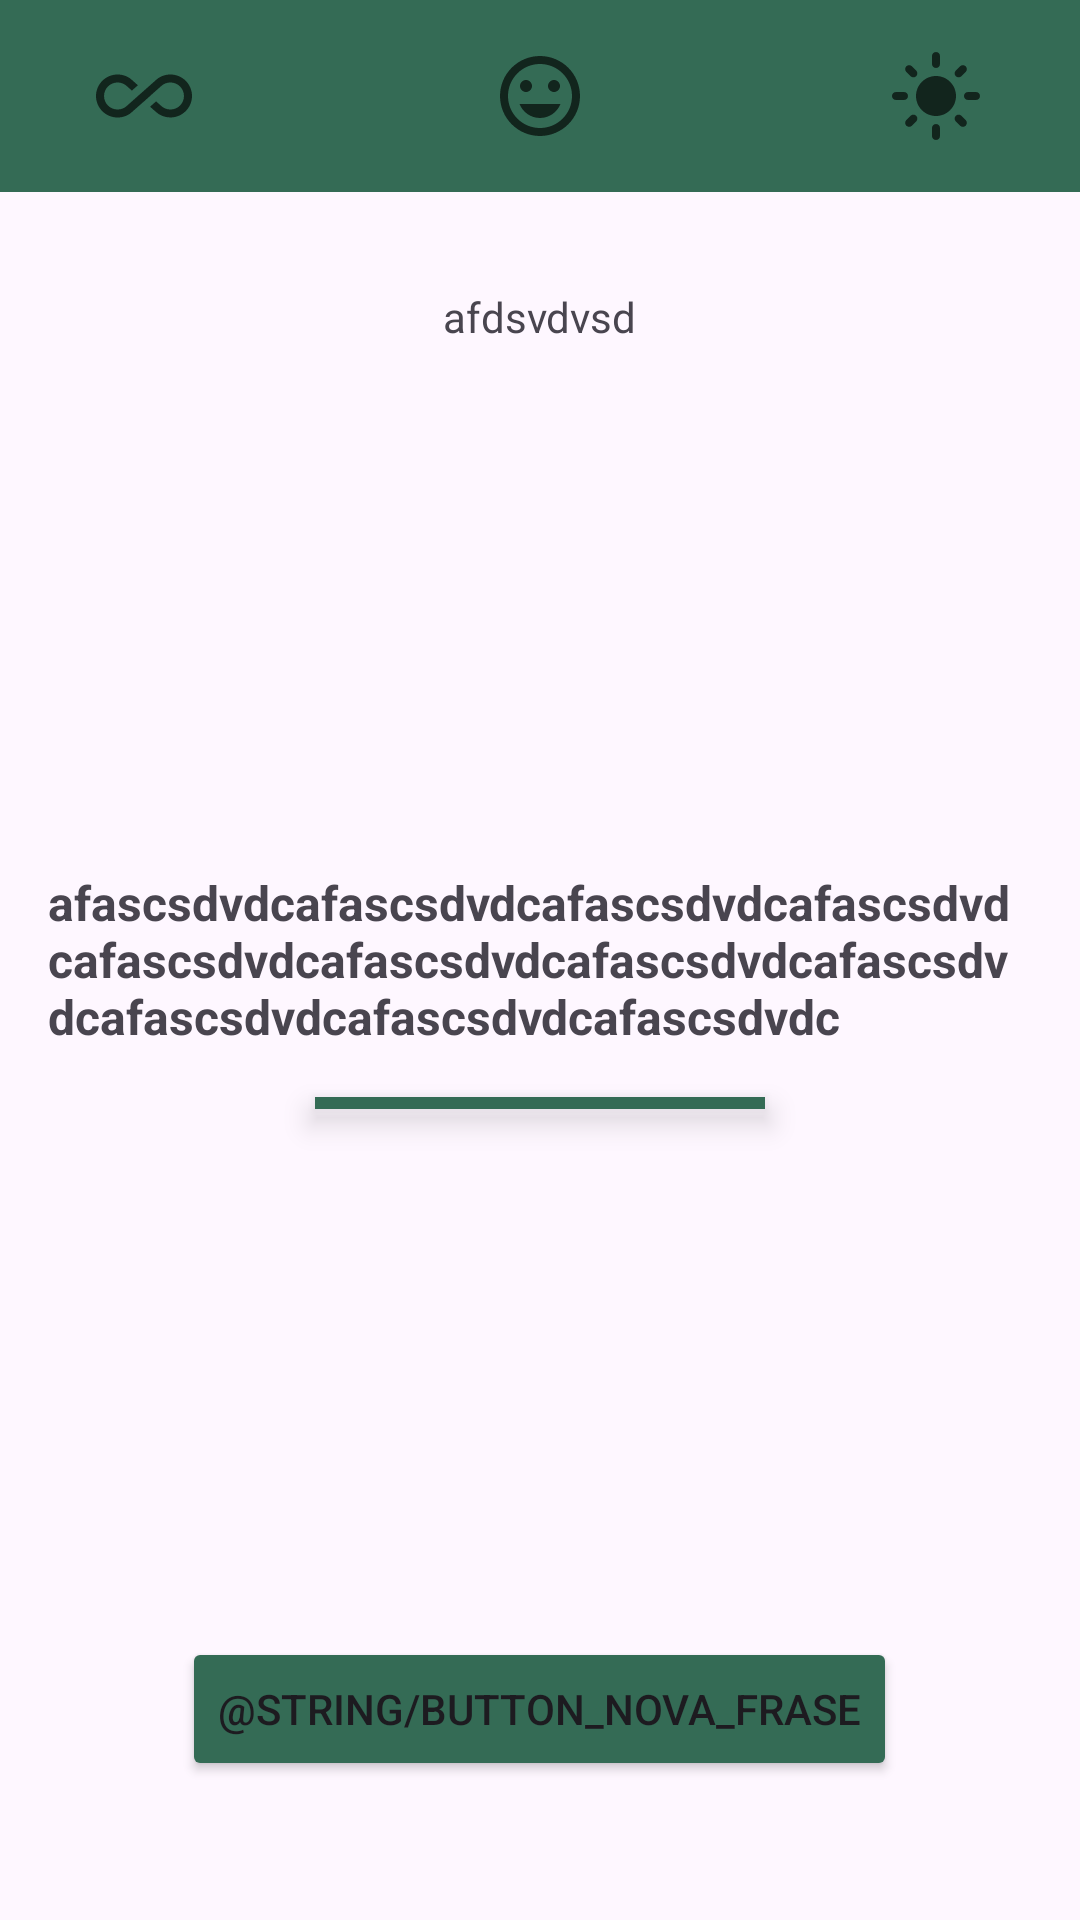

Where icons sit on this 1080*1920 app screen, as (x1, y1, x2, y2):
all inclusive: (96, 74, 192, 118)
insert emoticon: (500, 56, 580, 136)
